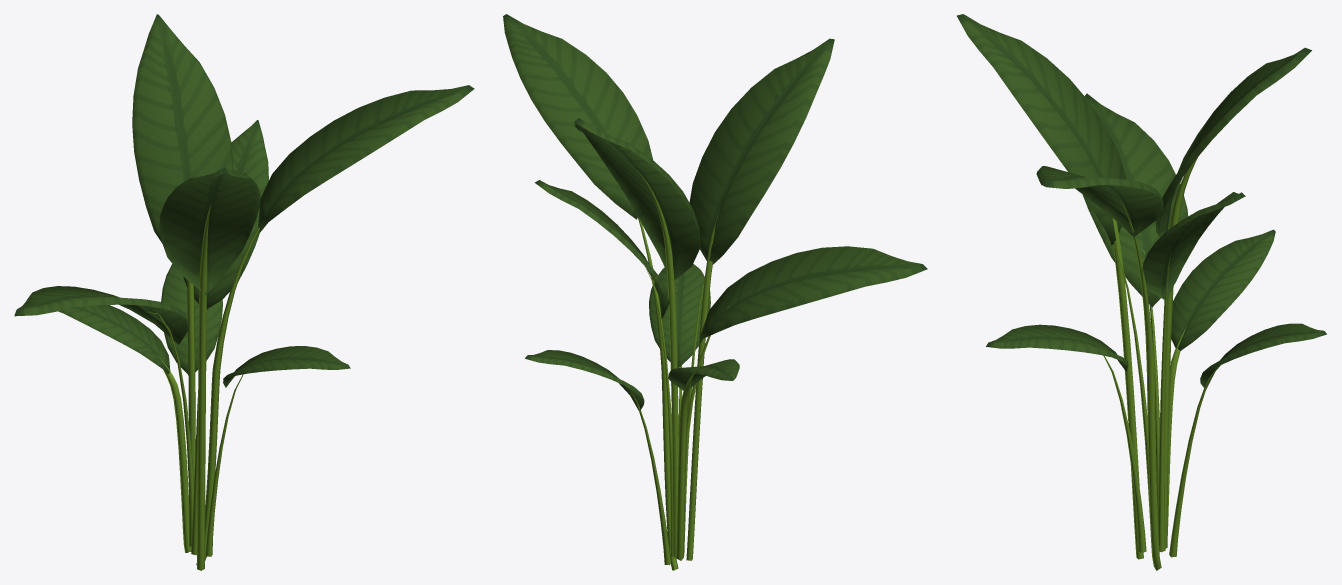
Rendered from Plant02.fbx.
The picture shows the model from 3 angles, left to right: view 1: azimuth 30°, elevation 25°; view 2: azimuth 150°, elevation 25°; view 3: azimuth 270°, elevation 25°; orthographic projection. The views are drawn at different scales.
Visible parts, largest first — view 1: NurbsPath.001; view 2: NurbsPath.001; view 3: NurbsPath.001.
Boxes of the visible parts, bbox=[...] form: NurbsPath.001: bbox=[14, 14, 474, 570]; NurbsPath.001: bbox=[503, 14, 927, 570]; NurbsPath.001: bbox=[957, 14, 1326, 570].
Bounding box in the file's own units: 1.56 × 1.67 × 1.05.
